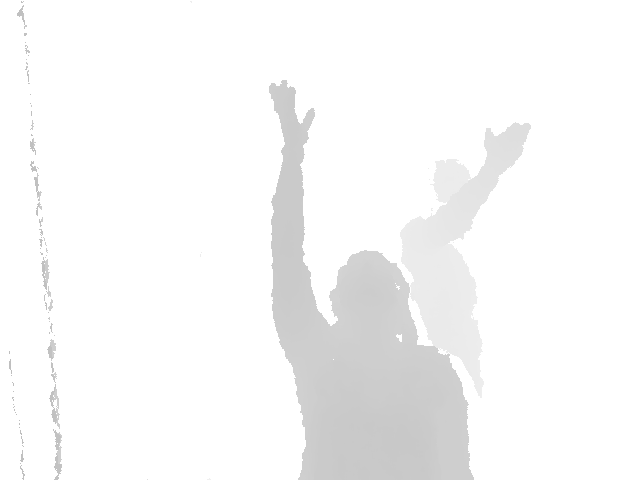hand: (269, 78, 316, 146), (483, 122, 533, 172)
head: (328, 249, 406, 342), (432, 155, 472, 206)
person: (269, 78, 478, 480), (397, 122, 533, 400)
